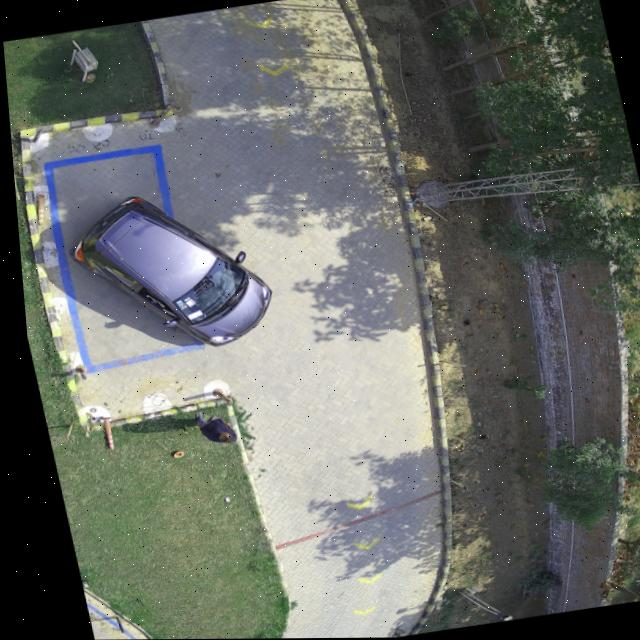car: (67, 197, 265, 346)
